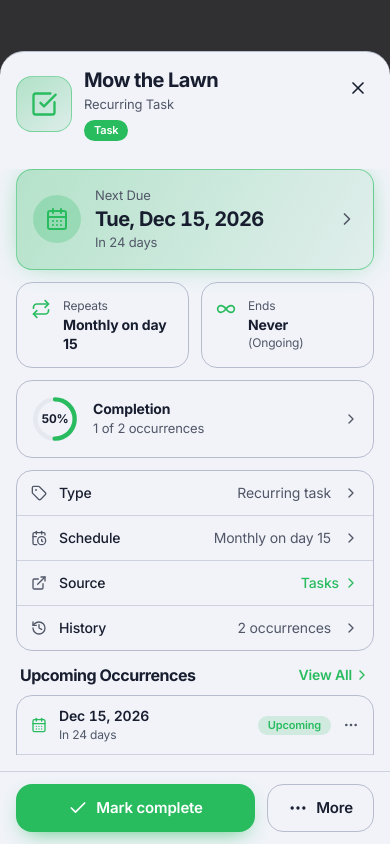
Test: a recurring task: one date at a time › History lists what was completed and skipped, newest first
Expected: the button with test id "cal-detail-completion" shows "1 of 2", [16,380,374,458]
Click the button with test id "cal-detail-history" at (83, 628), box [17,605,373,650]
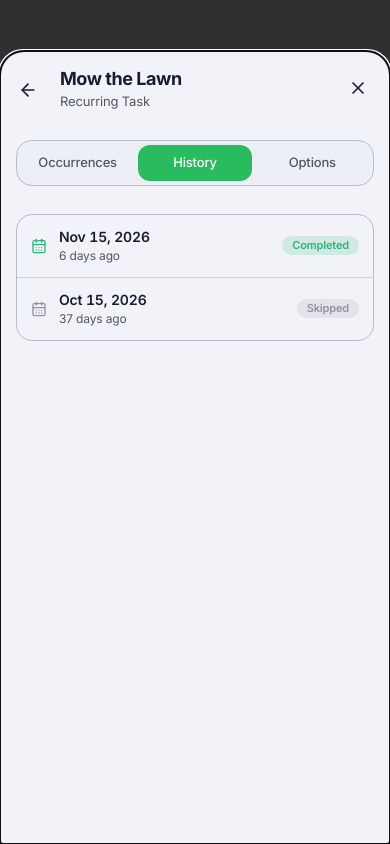
Now the element with test id "^cal-history-" shows "Completed", box [292,238,349,252]
Now the element with test id "^cal-history-" shows "Skipped", box [307,301,349,315]
